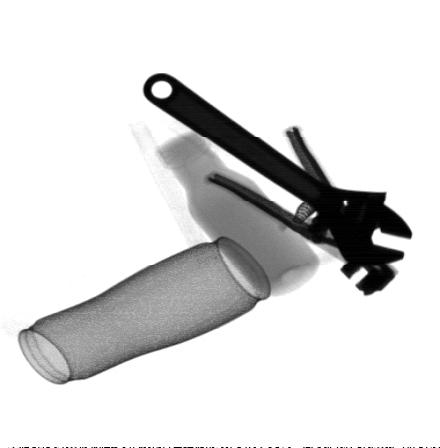Pliers: (205, 121, 403, 297)
Wrench: (140, 70, 415, 281)
